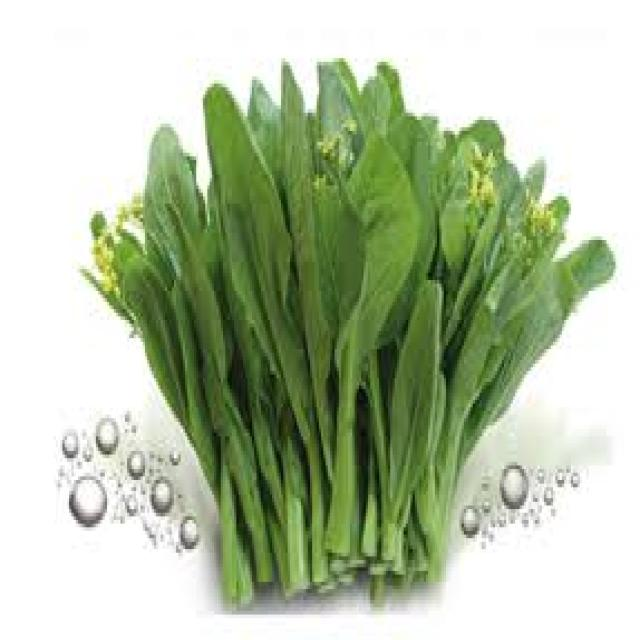collard: (84, 58, 618, 606)
